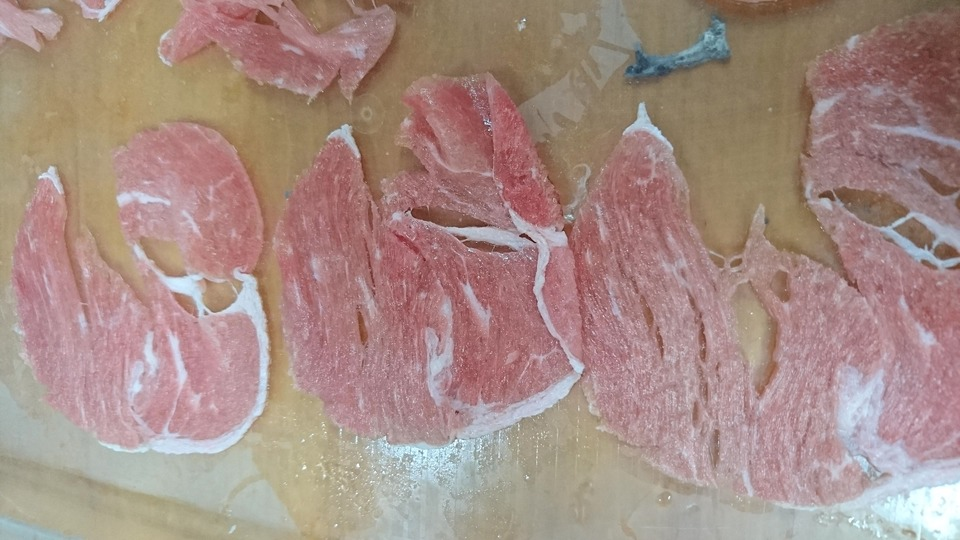restructured meat: (584, 31, 960, 515), (290, 70, 568, 450), (2, 143, 273, 454), (150, 4, 395, 104)
